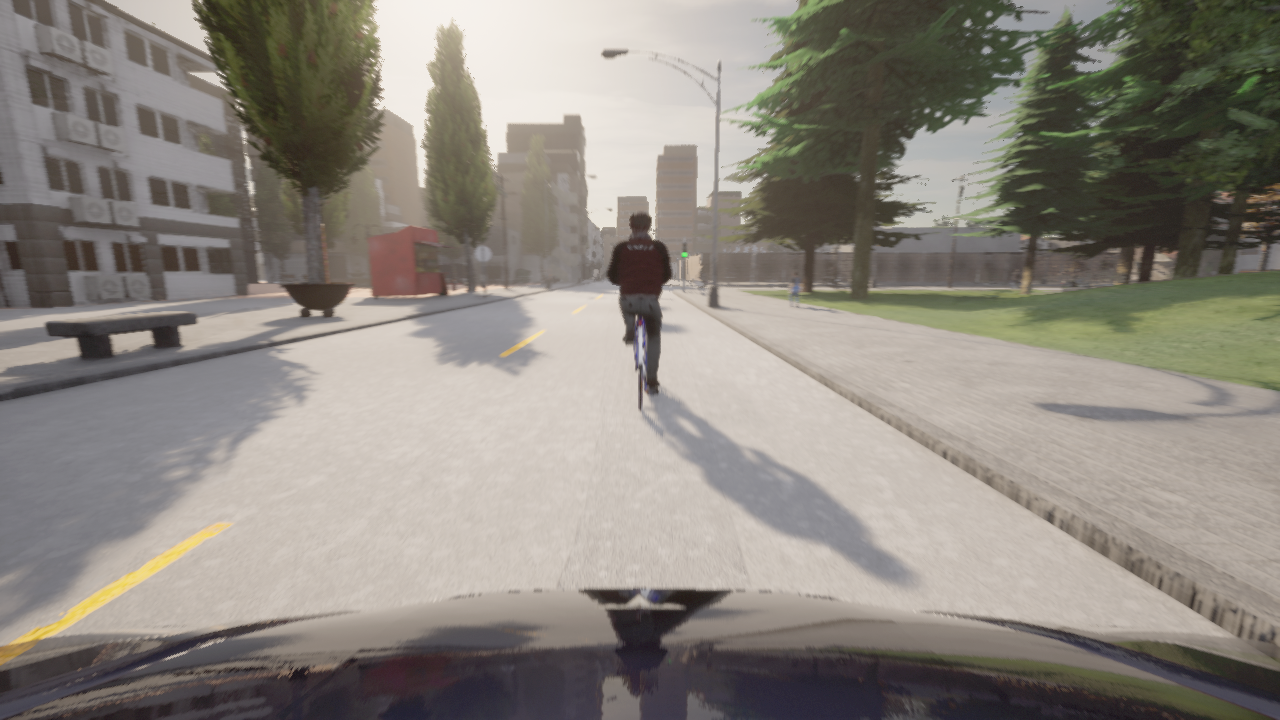cyclist: (0, 588, 1279, 719), (626, 316, 657, 409), (1061, 275, 1091, 287), (691, 276, 707, 288), (742, 271, 766, 279), (821, 278, 842, 286), (720, 268, 735, 279), (774, 271, 789, 279), (1007, 281, 1021, 287), (814, 268, 823, 277), (750, 275, 759, 279)
pedestrian: (789, 271, 801, 307), (549, 269, 551, 279)
